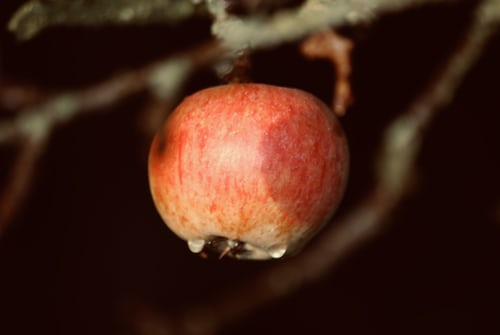apple: (144, 71, 355, 259)
